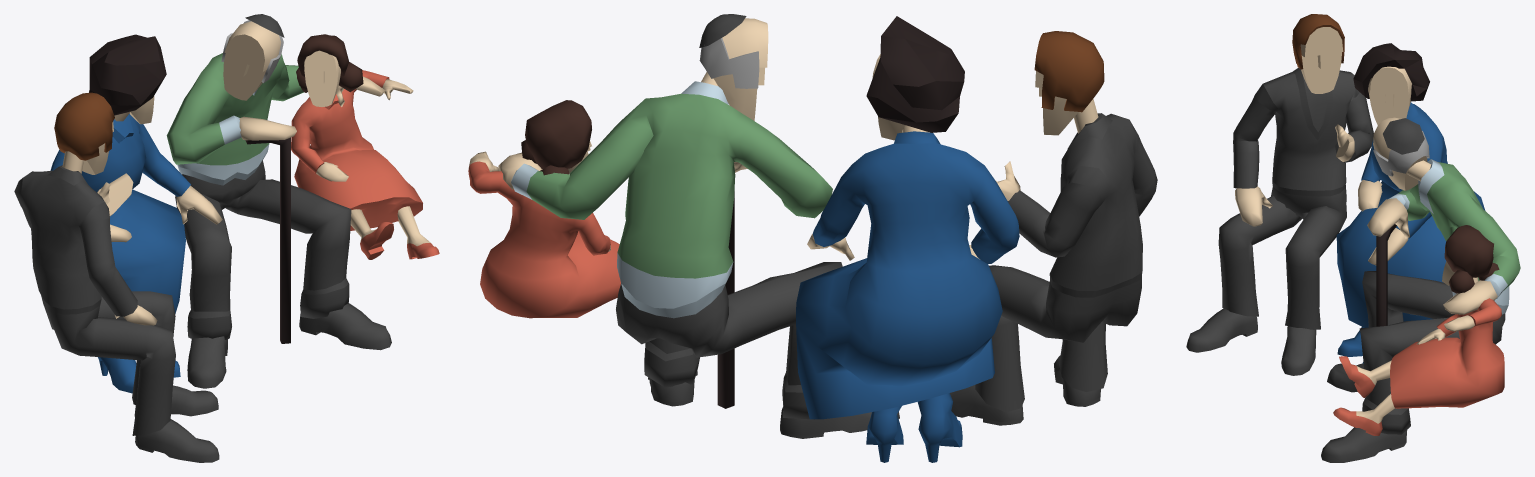
File: mesh_USAHouseFamily.fbx
3 views of the same model, side by side, from view 1: azimuth 30°, elevation 25°; view 2: azimuth 150°, elevation 25°; view 3: azimuth 270°, elevation 25° (orthographic). The views are drawn at different scales.
Visible parts, largest first — view 1: USAFamily; view 2: USAFamily; view 3: USAFamily.
Part boxes in pixels (x1,y1,x2,y2): USAFamily: [14, 14, 439, 462]; USAFamily: [468, 14, 1157, 462]; USAFamily: [1186, 14, 1520, 462].
Bounding box in the file's own units: 146 × 106 × 101.
